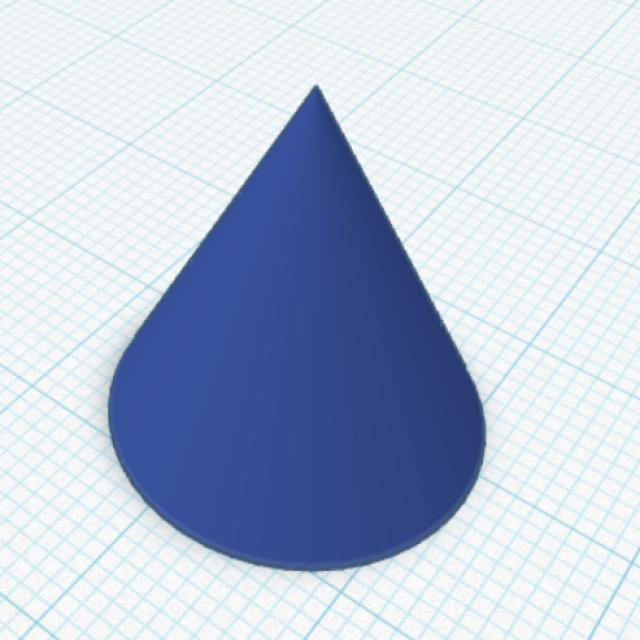cone: (103, 79, 491, 576)
